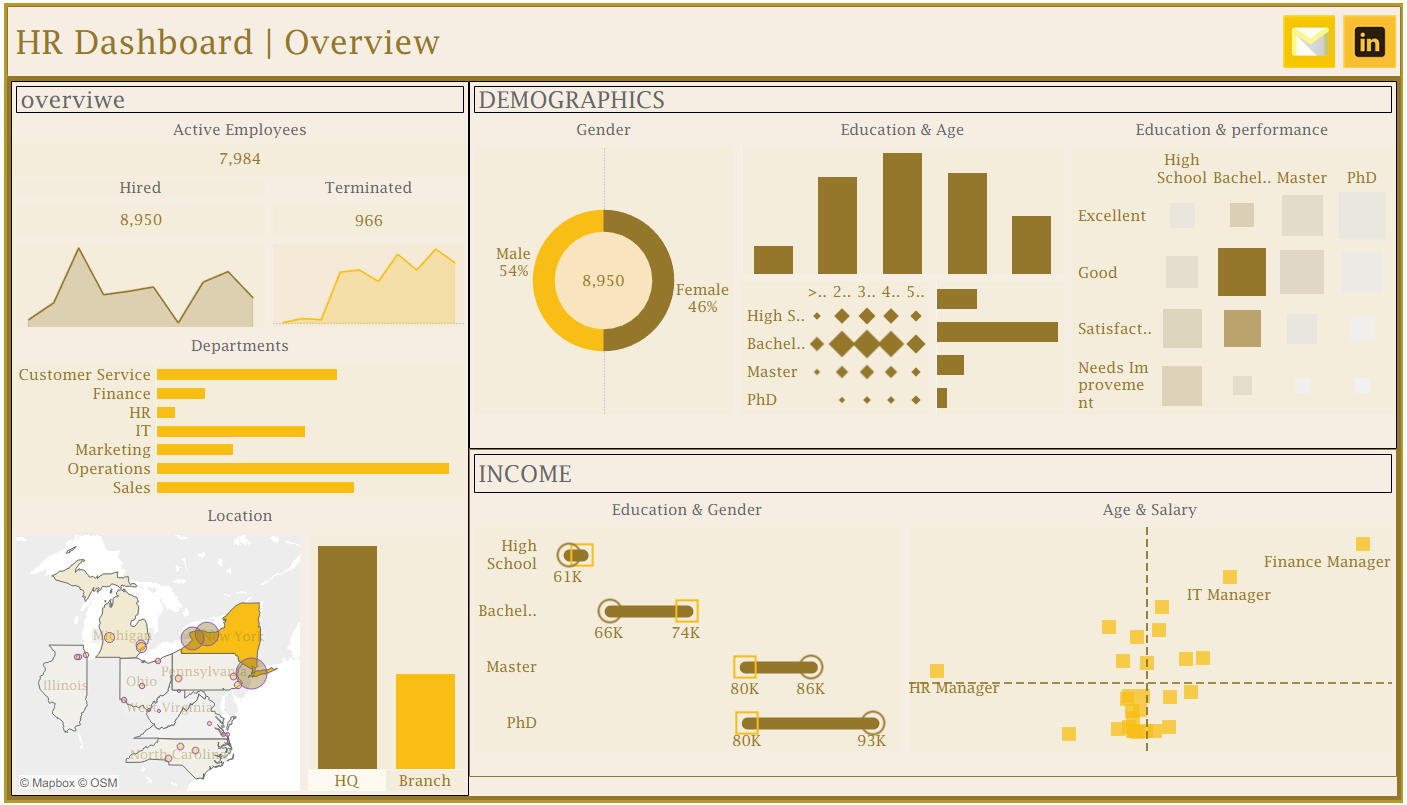

The dashboard page shown, as its layout file describes it:
{"tool":"tableau","page":{"name":"Dashboard 1","canvas":[1400,800],"ordinal":0},"visuals":[{"type":"text","box":[3,18,1271,69]},{"type":"image","param":"Image/download (1).jpg","box":[1274,18,60.5,69]},{"type":"image","param":"Image/images.png","box":[1334.5,18,60.5,69]},{"type":"text","box":[7,93,456,35]},{"type":"text","box":[465,93,926,35]},{"type":"text","box":[7,128,456,26]},{"type":"text","box":[465,128,267,26]},{"type":"text","box":[732,128,331,26]},{"type":"text","box":[1063,128,328,26]},{"type":"worksheet","title":"BAN ACTIVE","mark":"Text","box":[7,154,456,32]},{"type":"worksheet","title":"gender","mark":"Pie","cols":["Calculation_1459729254472417283","Calculation_1459729254472417283"],"box":[465,154,267,275]},{"type":"worksheet","title":"age group ","mark":"Bar","rows":["Calculation_936185797149577216"],"cols":["Calculation_1459729254479716357"],"box":[732,154,331,135]},{"type":"worksheet","title":"education vs performation ","mark":"Square","rows":["Performance Rating"],"cols":["Education Level"],"box":[1063,154,328,275]},{"type":"text","box":[7,186,257,26]},{"type":"text","box":[264,186,199,26]},{"type":"worksheet","title":"BAN HIRED","mark":"Text","box":[7,212,257,38.3]},{"type":"worksheet","title":"BAN TERMINATED","mark":"Text","box":[264,212,199,38.8]},{"type":"worksheet","title":"hired by year ","mark":"Line","rows":["Calculation_936185797149577216","Calculation_936185797149577216"],"cols":["Hiredate"],"box":[7,250.3,257,91.7]},{"type":"worksheet","title":"terminated by year","mark":"Line","rows":["Calculation_936185797149982721","Calculation_936185797149982721"],"cols":["Termdate"],"box":[264,250.8,199,91.2]},{"type":"worksheet","title":"age vs education ","mark":"Shape","rows":["Education Level"],"cols":["Calculation_1459729254479716357"],"box":[732,289,195,140]},{"type":"worksheet","title":"education level ","mark":"Bar","rows":["Education Level"],"cols":["Calculation_936185797149577216"],"box":[927,289,136,140]},{"type":"text","box":[7,342,456,30]},{"type":"worksheet","title":"Department ","mark":"Bar","rows":["Department"],"cols":["Calculation_936185797149577216"],"box":[7,372,456,140]},{"type":"text","box":[465,461,926,47]},{"type":"text","box":[465,508,434,26]},{"type":"text","box":[899,508,492,26]},{"type":"text","box":[7,512,456,30]},{"type":"worksheet","title":"Gender vs Education level ","mark":"Square","rows":["Education Level"],"cols":["Salary","Salary"],"box":[465,534,434,232]},{"type":"worksheet","title":"Age vs Salary ","mark":"Shape","rows":["Salary"],"cols":["Calculation_1459729254478688260"],"box":[899,534,492,232]}]}

Visuals, with their boxes in screenshot pixels (x1, y1, x2, y2), scaled from the page's 1400x800 canvas onto the 1407x805 screenshot:
text: locate(3, 18, 1280, 88)
image: locate(1280, 18, 1341, 88)
image: locate(1341, 18, 1402, 88)
text: locate(7, 94, 465, 129)
text: locate(467, 94, 1398, 129)
text: locate(7, 129, 465, 155)
text: locate(467, 129, 736, 155)
text: locate(736, 129, 1068, 155)
text: locate(1068, 129, 1398, 155)
"BAN ACTIVE" worksheet (Text marks): locate(7, 155, 465, 187)
"gender" worksheet (Pie marks): locate(467, 155, 736, 432)
"age group " worksheet (Bar marks): locate(736, 155, 1068, 291)
"education vs performation " worksheet (Square marks): locate(1068, 155, 1398, 432)
text: locate(7, 187, 265, 213)
text: locate(265, 187, 465, 213)
"BAN HIRED" worksheet (Text marks): locate(7, 213, 265, 252)
"BAN TERMINATED" worksheet (Text marks): locate(265, 213, 465, 252)
"hired by year " worksheet (Line marks): locate(7, 252, 265, 344)
"terminated by year" worksheet (Line marks): locate(265, 252, 465, 344)
"age vs education " worksheet (Shape marks): locate(736, 291, 932, 432)
"education level " worksheet (Bar marks): locate(932, 291, 1068, 432)
text: locate(7, 344, 465, 374)
"Department " worksheet (Bar marks): locate(7, 374, 465, 515)
text: locate(467, 464, 1398, 511)
text: locate(467, 511, 903, 537)
text: locate(903, 511, 1398, 537)
text: locate(7, 515, 465, 545)
"Gender vs Education level " worksheet (Square marks): locate(467, 537, 903, 771)
"Age vs Salary " worksheet (Shape marks): locate(903, 537, 1398, 771)
